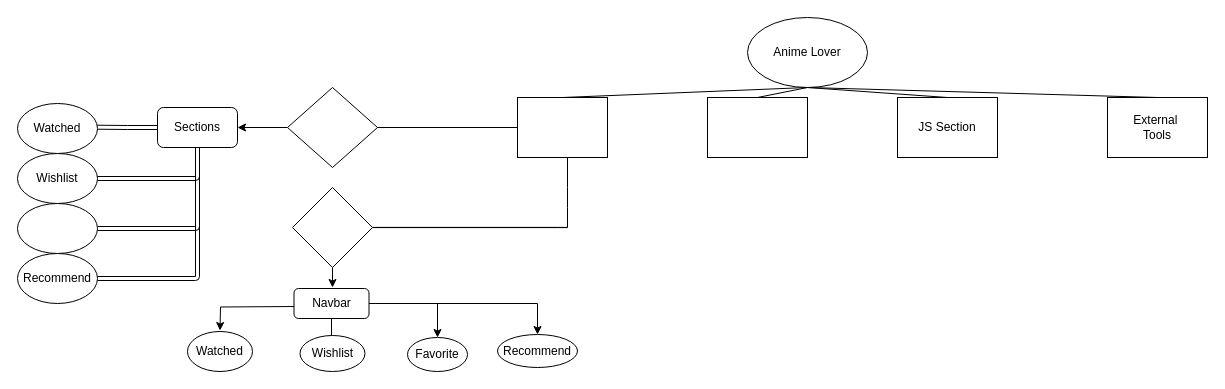
This 1225x389 diagram has some shape labels left out. The shapes that lost their labels are listed below. From the top down, each one's box as (x1, y1, x2, y2) in pixels, then its label:
(286, 86, 378, 168): Main
(516, 96, 608, 158): HTML
(706, 96, 808, 158): CSS Section
(16, 202, 98, 254): Favorites
(292, 186, 372, 268): Header
